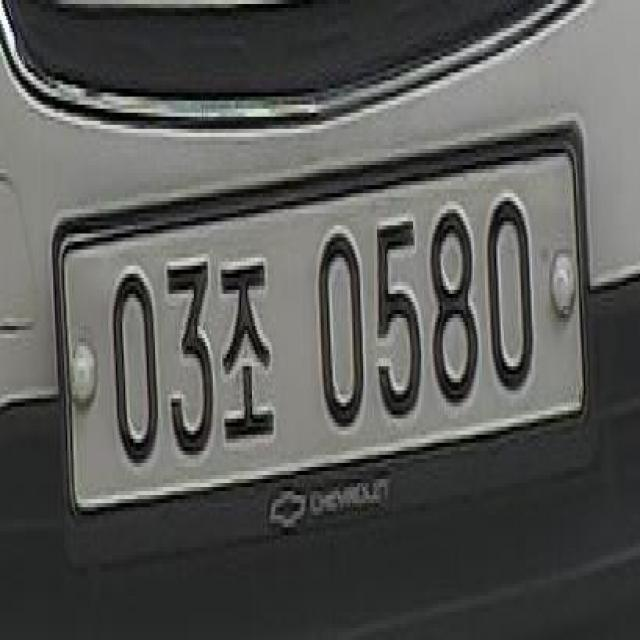illegal_plate: (57, 130, 598, 546)
